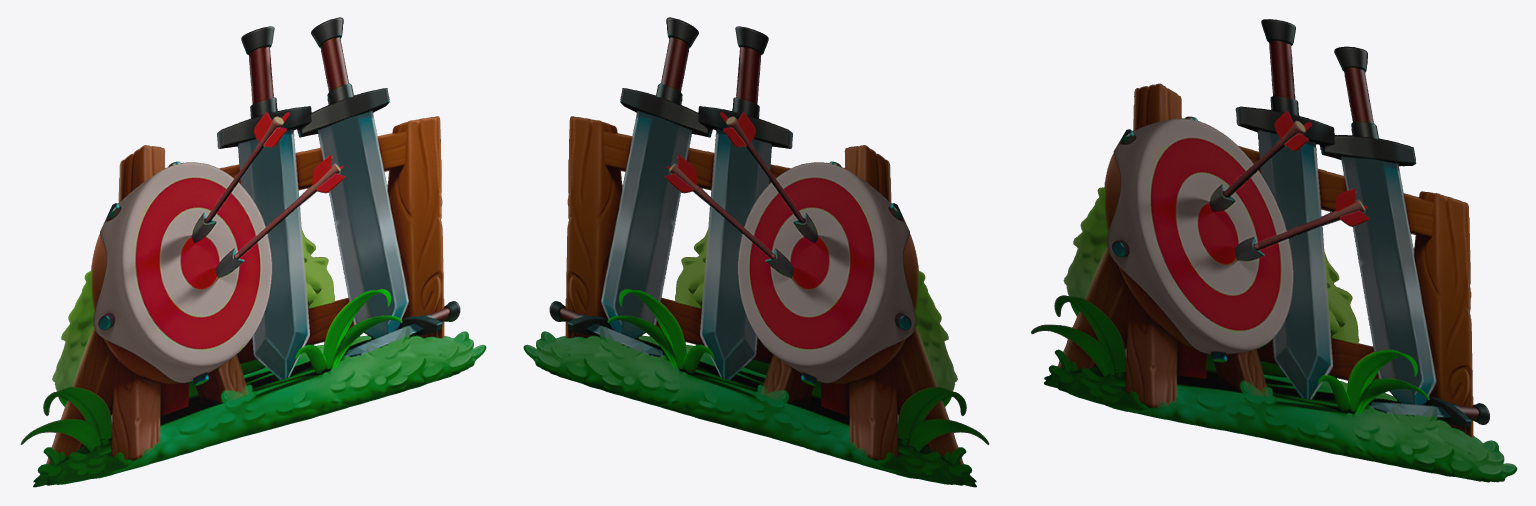
The model's file is right.fbx.
3 views of the same model, side by side, from view 1: azimuth 30°, elevation 25°; view 2: azimuth 150°, elevation 25°; view 3: azimuth 330°, elevation 25° (orthographic). The views are drawn at different scales.
Visible parts, largest first — view 1: right; view 2: right; view 3: right.
Part boxes in pixels (<box>): right: <box>20,17,486,487</box>; right: <box>523,17,989,487</box>; right: <box>1031,19,1517,482</box>.
Bounding box in the file's own units: 573 × 488 × 1.14e-05.
